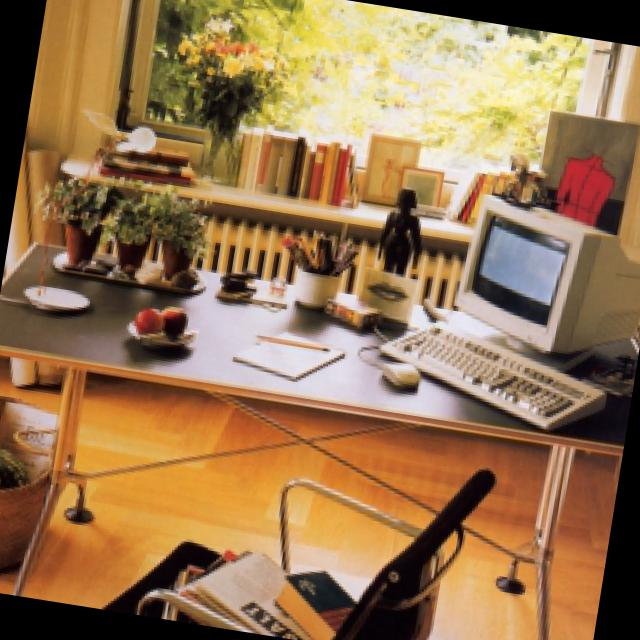2001: (118, 0, 610, 200)
basket crop: (0, 394, 49, 563)
book case: (275, 569, 354, 640)
books crop: (233, 128, 354, 199), (95, 141, 193, 181), (443, 167, 513, 220)
bouquet: (178, 17, 274, 172)
card: (354, 266, 412, 326)
chair -occluded-: (103, 467, 492, 640)
cup and saucer: (290, 267, 337, 304)
desk calendar: (0, 241, 634, 451)
fruit basket: (134, 306, 184, 331)
keyboard crop: (379, 319, 602, 426)
magazines: (162, 548, 345, 637)
monitor crop: (454, 191, 640, 366)
mouse pad: (375, 357, 415, 386)
painting crop: (536, 108, 637, 228)
paper cup with straws: (231, 327, 338, 376)
pen holder: (251, 330, 326, 349)
pens: (283, 231, 354, 274)
picture occluded: (358, 133, 414, 202), (394, 166, 440, 209)
plant -x: (39, 178, 118, 260), (151, 189, 204, 275), (106, 197, 151, 266)
plate food: (125, 322, 191, 348), (27, 285, 86, 309)
radiator occluded: (193, 218, 462, 308)
statue: (377, 186, 418, 270)
